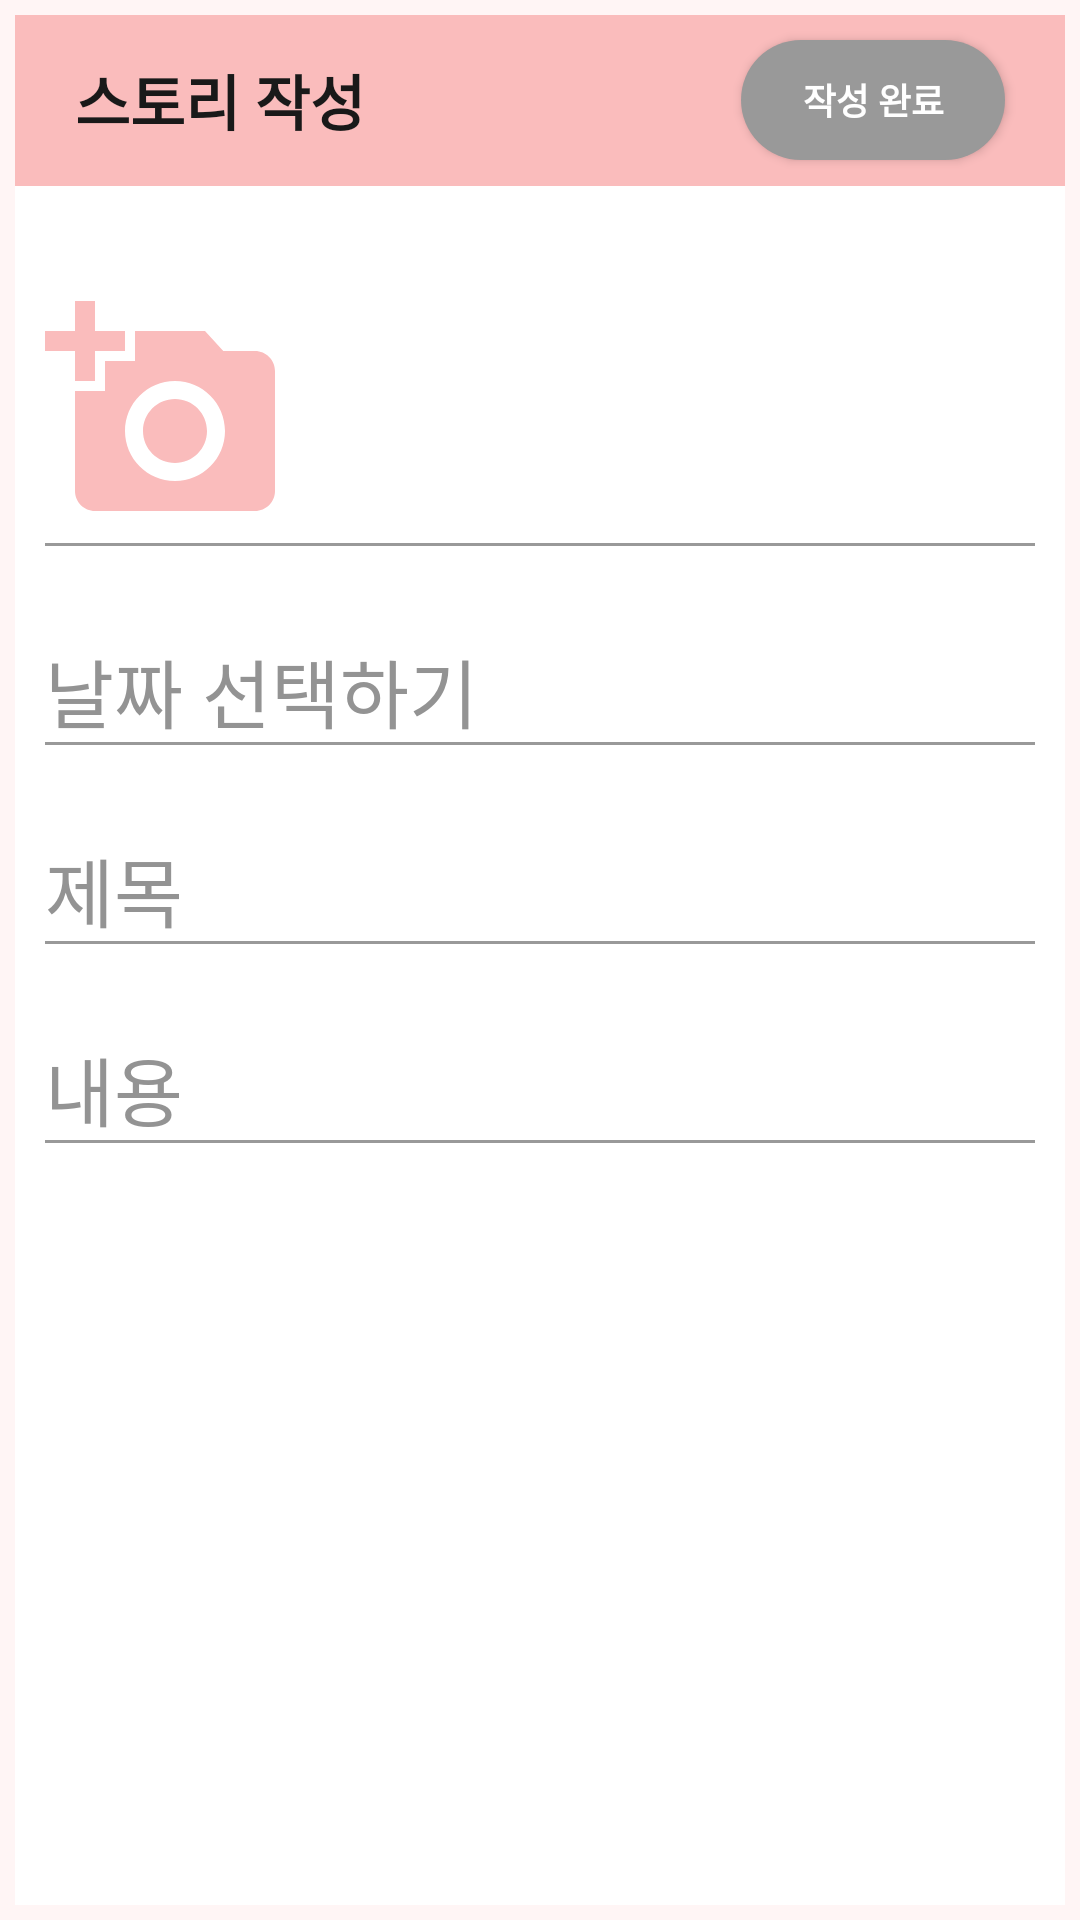

Named icons in this screenshot (1080 × 1920) and their bounding boxes, bbox=[x1, y1, x2, y2]:
add photo: bbox=[45, 301, 275, 511]
